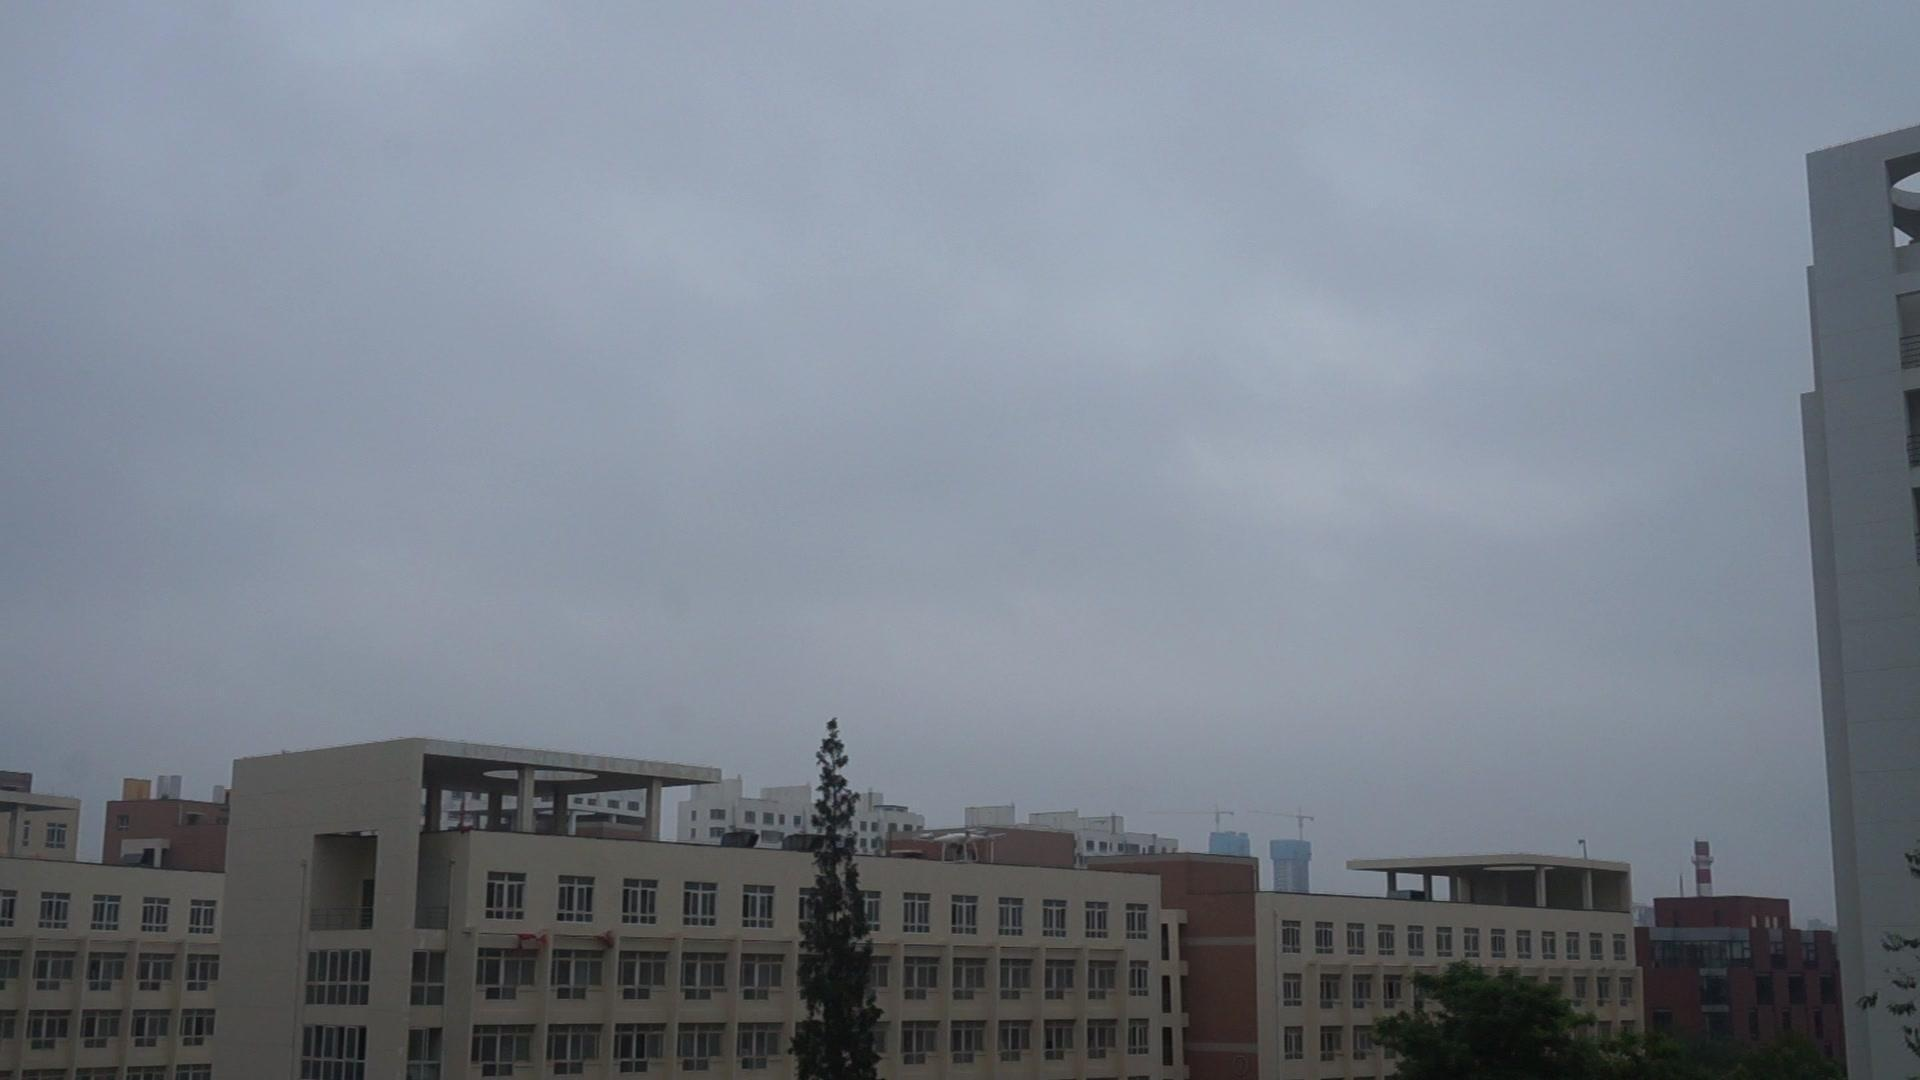UAV: (914, 828, 1009, 865)
